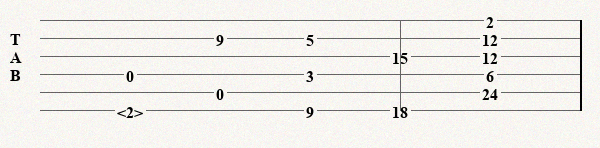0: (126, 67, 138, 82), (216, 85, 228, 100)
12: (482, 49, 502, 64), (482, 31, 502, 46)
15: (392, 49, 412, 64)
18: (392, 103, 412, 118)
2: (486, 13, 498, 28)
24: (482, 85, 502, 100)
3: (306, 67, 318, 82)
5: (306, 31, 318, 46)
6: (486, 67, 498, 82)
9: (216, 31, 228, 46), (306, 103, 318, 118)
harmonic: (117, 103, 147, 118)
